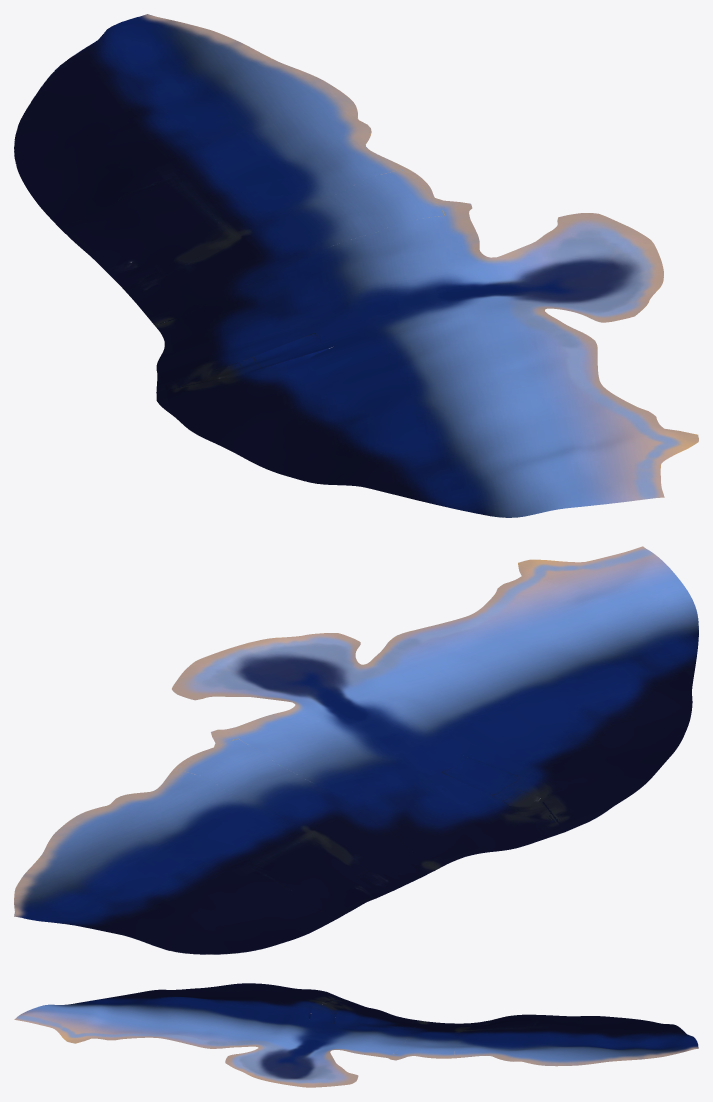
File: Underwater-land-2.glb
3 renders of one model, top to bottom at view 1: azimuth 30°, elevation 25°; view 2: azimuth 150°, elevation 25°; view 3: azimuth 270°, elevation 25°, orthographic. The views are drawn at different scales.
Parts seen in each view (by area): view 1: Retopo_Sea Land 2.001; view 2: Retopo_Sea Land 2.001; view 3: Retopo_Sea Land 2.001.
Boxes of the visible parts, bbox=[...] form: Retopo_Sea Land 2.001: bbox=[14, 14, 698, 517]; Retopo_Sea Land 2.001: bbox=[14, 546, 698, 954]; Retopo_Sea Land 2.001: bbox=[14, 983, 698, 1087].
Bounding box in the file's own units: 7733 × 1066 × 17131.
Materials: 1 (1 with a texture image).
